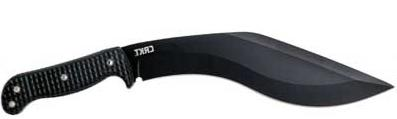MACHETTE: (0, 25, 397, 118)
